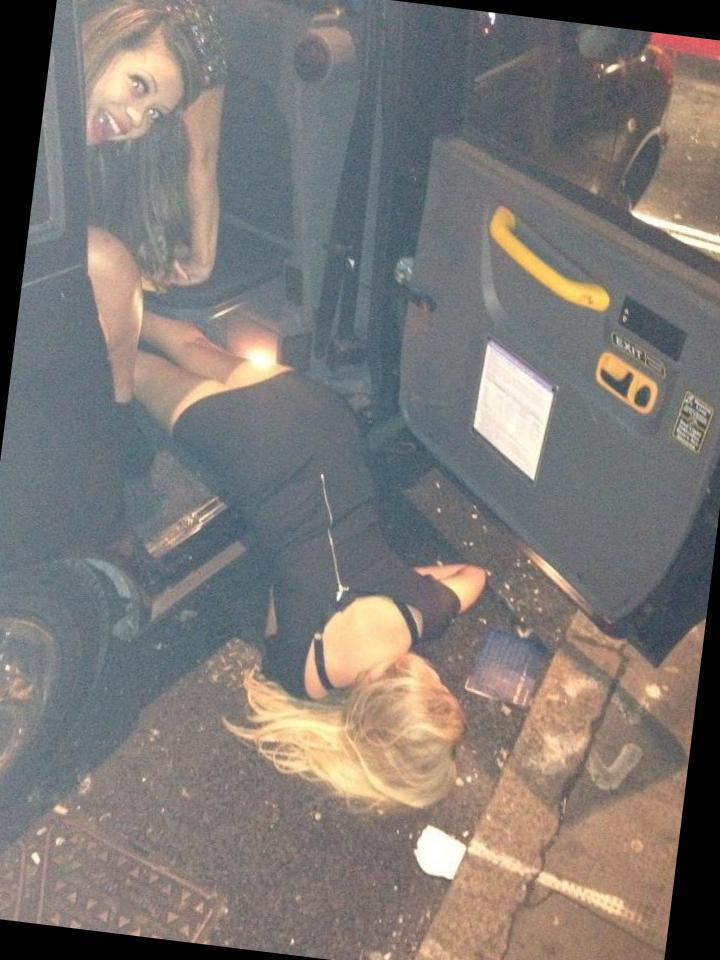Drunk: (81, 54, 191, 145)
